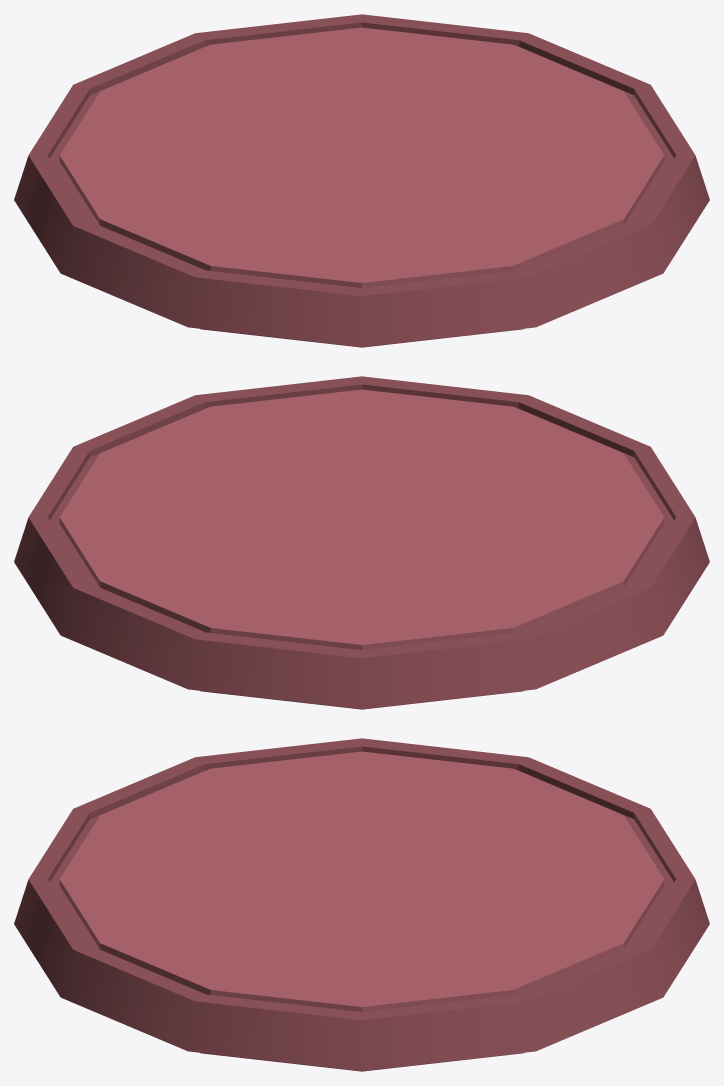
The model's file is SM_LazySusan_01.fbx.
3 renders of one model, top to bottom at view 1: azimuth 30°, elevation 25°; view 2: azimuth 150°, elevation 25°; view 3: azimuth 270°, elevation 25°, orthographic.
Parts seen in each view (by area): view 1: SM_LazySusan_01; view 2: SM_LazySusan_01; view 3: SM_LazySusan_01.
Part boxes in pixels (left/top/right/bottom): SM_LazySusan_01: left=14, top=14, right=709, bottom=347; SM_LazySusan_01: left=14, top=376, right=709, bottom=709; SM_LazySusan_01: left=14, top=738, right=709, bottom=1071.
Bounding box in the file's own units: 69.83 × 6.22 × 69.83.
